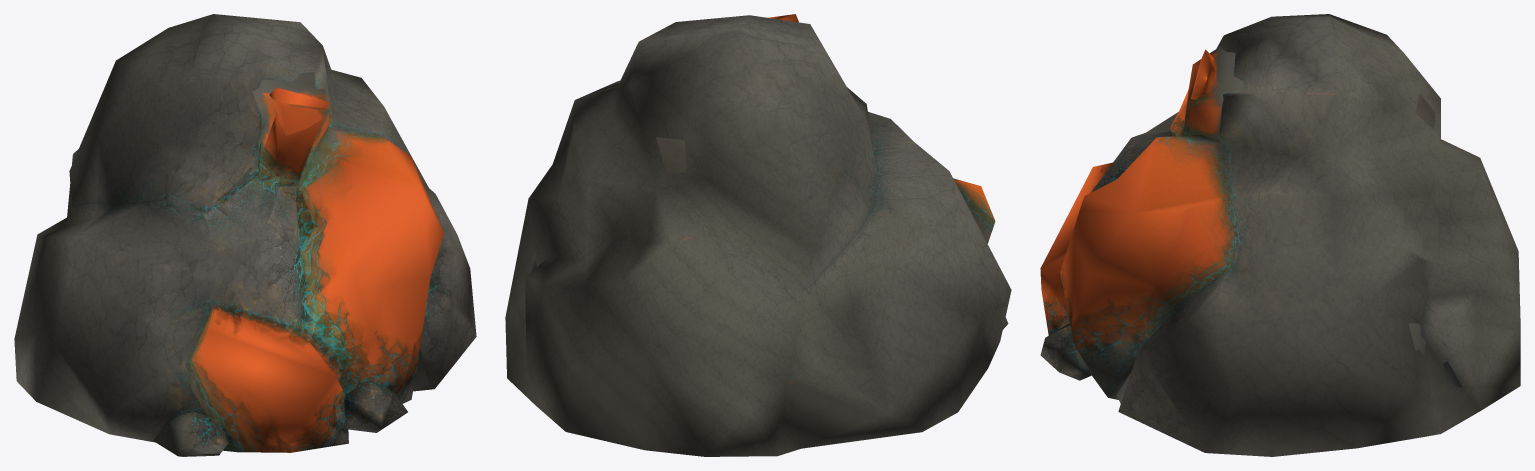
Rendered from Meshy_AI_Emberstone_Vein_0831110652_texture.fbx.
The picture shows the model from 3 angles, left to right: view 1: azimuth 30°, elevation 25°; view 2: azimuth 150°, elevation 25°; view 3: azimuth 270°, elevation 25°; orthographic projection. The views are drawn at different scales.
Visible parts, largest first — view 1: mesh_node; view 2: mesh_node; view 3: mesh_node.
Boxes of the visible parts, x1=… form: mesh_node: x1=14, y1=14, x2=476, y2=456; mesh_node: x1=505, y1=14, x2=1011, y2=456; mesh_node: x1=1040, y1=14, x2=1520, y2=456.
Size of the model in its own units: 100 by 77.34 by 100.
Materials: 1 (1 with a texture image).
